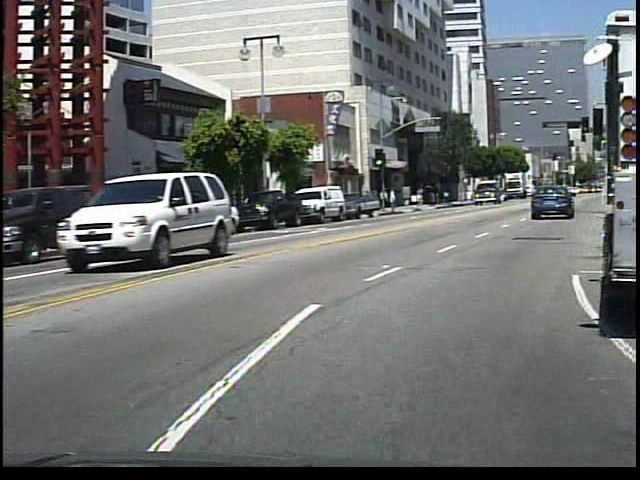person: (389, 186, 404, 215)
